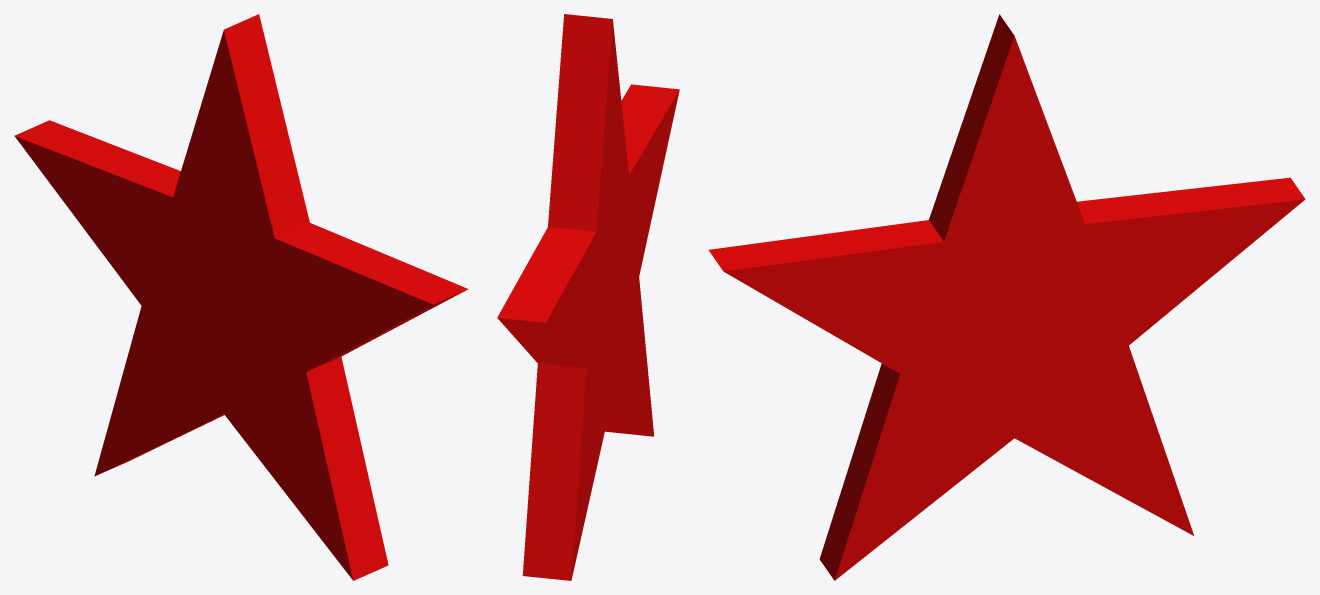
File: Estrela_ponto.fbx
3 views of the same model, side by side, from view 1: azimuth 30°, elevation 25°; view 2: azimuth 150°, elevation 25°; view 3: azimuth 270°, elevation 25° (orthographic). The views are drawn at different scales.
Visible parts, largest first — view 1: estrela_ponto; view 2: estrela_ponto; view 3: estrela_ponto.
Part boxes in pixels (box(x1,y1,x2,y2)): estrela_ponto: box(14, 14, 468, 580); estrela_ponto: box(497, 14, 679, 580); estrela_ponto: box(708, 14, 1305, 580).
Bounding box in the file's own units: 69.68 × 181 × 187.
